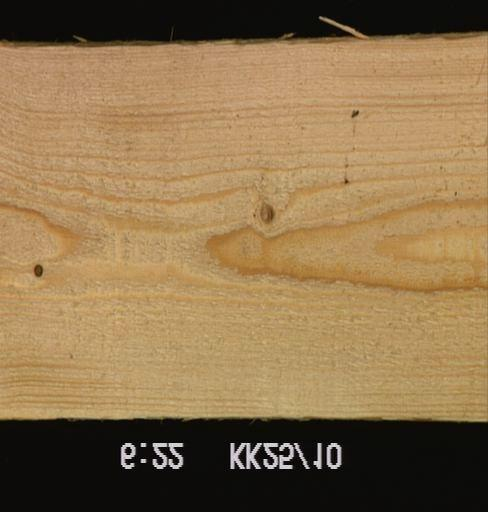dry_knot: (30, 262, 44, 279)
sound_knot: (255, 201, 275, 225)
